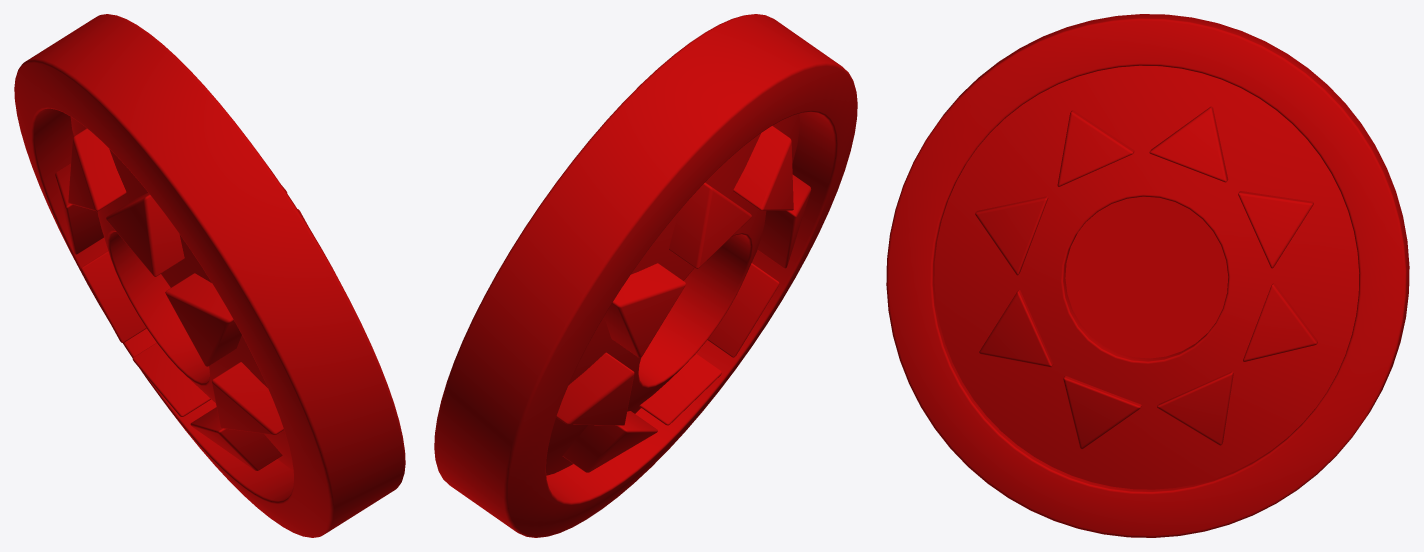
The model's file is buzzer-lod0.glb.
The picture shows the model from 3 angles, left to right: view 1: azimuth 30°, elevation 25°; view 2: azimuth 150°, elevation 25°; view 3: azimuth 270°, elevation 25°; orthographic projection. The views are drawn at different scales.
Parts seen in each view (by area): view 1: coin; view 2: coin; view 3: coin.
Part boxes in pixels (x1,y1,x2,y2): coin: (14,14,405,537); coin: (434,14,857,537); coin: (886,14,1409,537).
Size of the model in its own units: 0.5745 by 1.08 by 1.1.
1 material, 1 textured.
